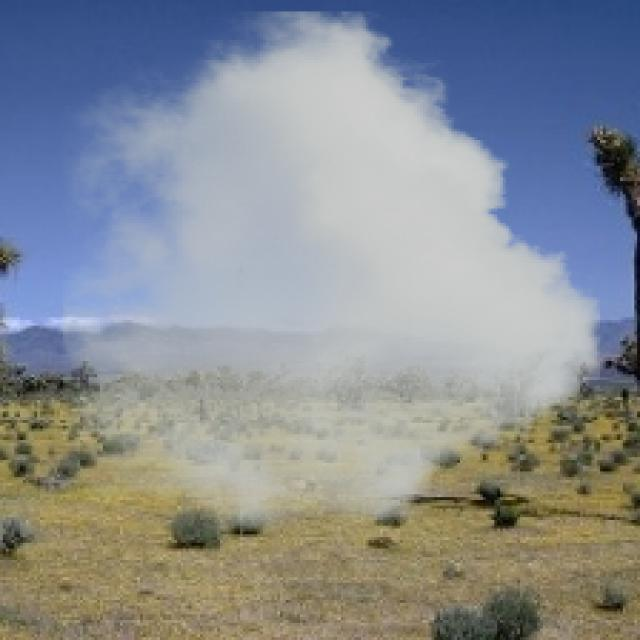smoke: (63, 11, 600, 532)
